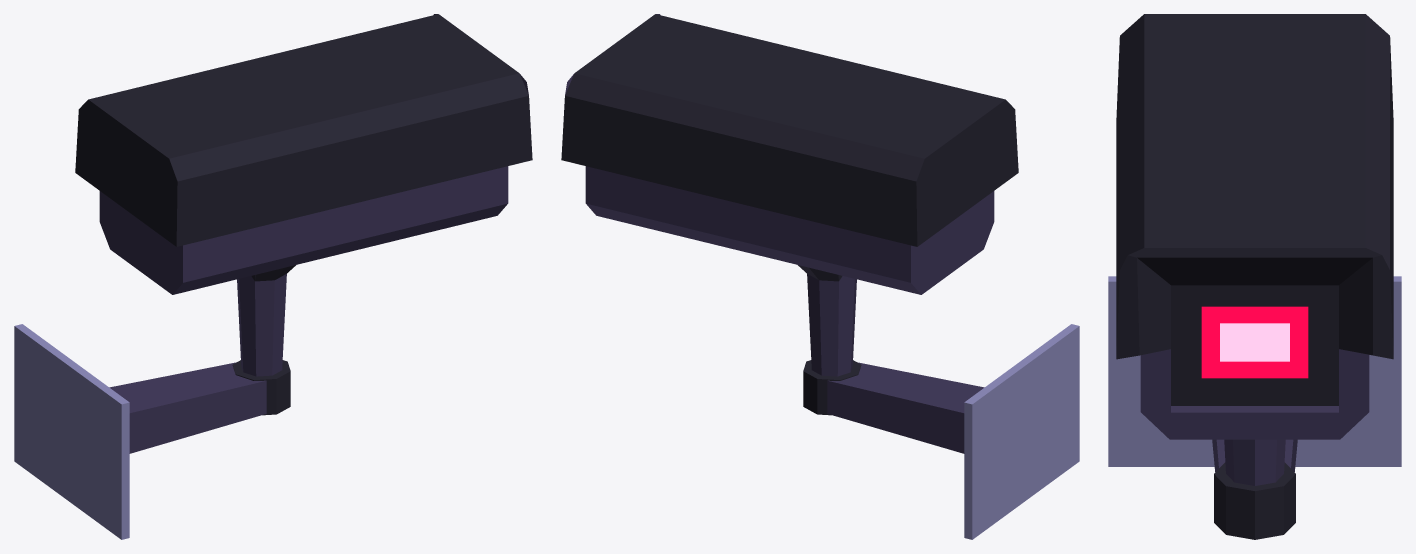
The model's file is Security_Camera.fbx.
3 renders of one model, left to right at view 1: azimuth 30°, elevation 25°; view 2: azimuth 150°, elevation 25°; view 3: azimuth 270°, elevation 25°, orthographic. The views are drawn at different scales.
Parts seen in each view (by area): view 1: Camera, Security_Cam; view 2: Camera, Security_Cam; view 3: Camera, Security_Cam.
Part boxes in pixels (bbox=[...]): Camera: bbox=[75, 14, 532, 415]; Security_Cam: bbox=[14, 324, 266, 539]; Camera: bbox=[561, 14, 1018, 415]; Security_Cam: bbox=[827, 324, 1079, 539]; Camera: bbox=[1116, 14, 1393, 539]; Security_Cam: bbox=[1108, 276, 1401, 471].
Bounding box in the file's own units: 0.5052 × 0.4146 × 0.2259.
